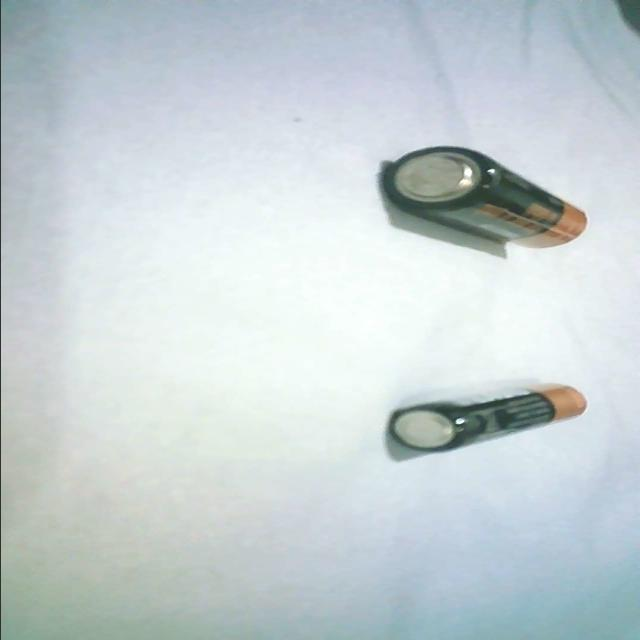AA: (379, 141, 597, 257)
AAA: (380, 376, 591, 464)
